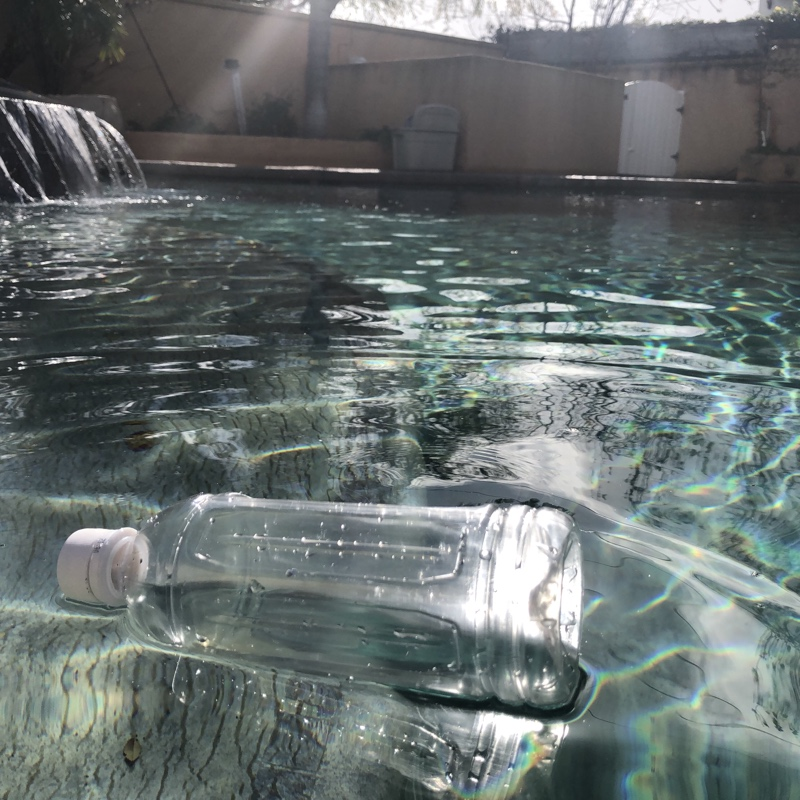Plastic Bottle: (40, 484, 590, 724)
